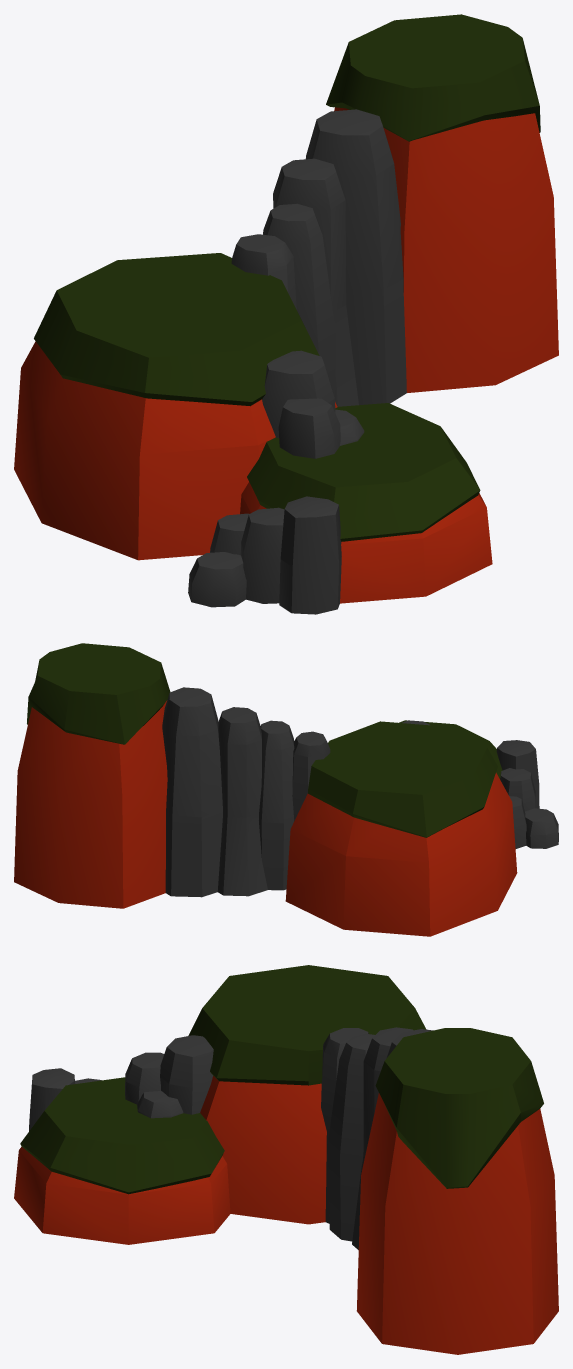
File: hill_stairs.fbx
3 views of the same model, one above another, from view 1: azimuth 30°, elevation 25°; view 2: azimuth 150°, elevation 25°; view 3: azimuth 270°, elevation 25° (orthographic). The views are drawn at different scales.
Parts seen in each view (by area): view 1: stairs; view 2: stairs; view 3: stairs.
Part boxes in pixels (x1,y1,x2,y2): stairs: (14,14,558,614); stairs: (14,643,558,936); stairs: (14,965,558,1354).
Size of the model in its own units: 3598 by 1707 by 3368.
